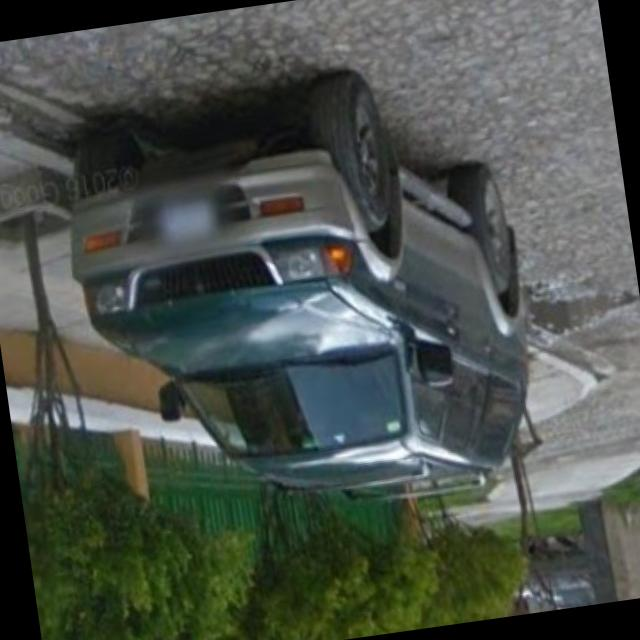car: (58, 50, 550, 539)
